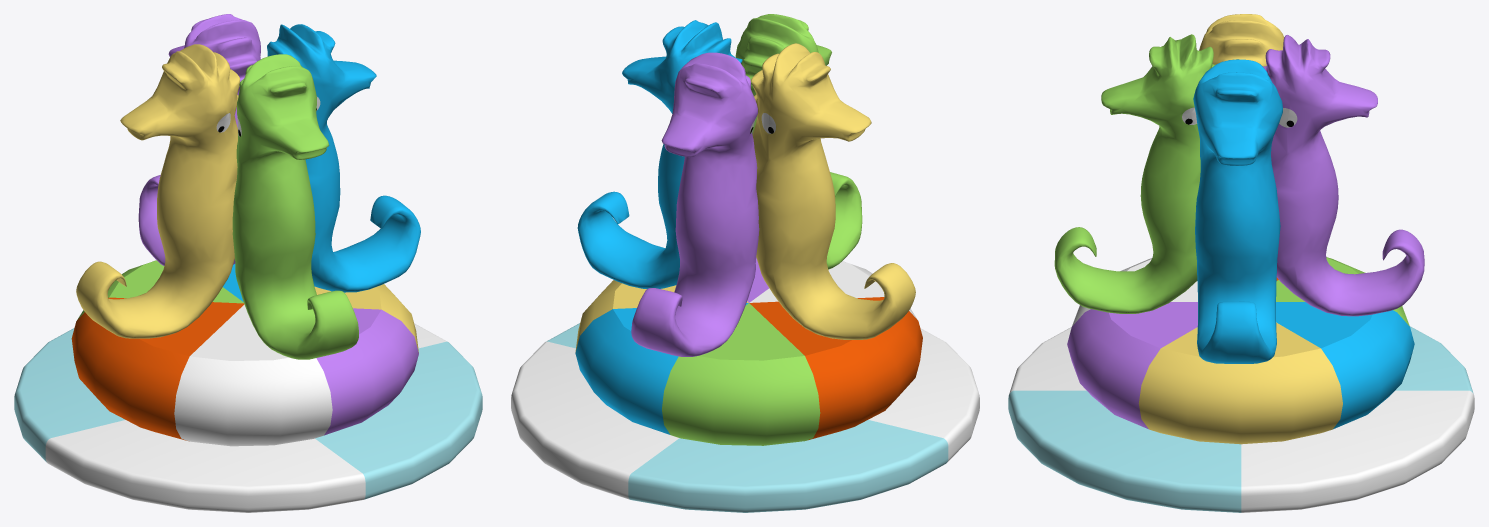
The picture shows the model from 3 angles, left to right: view 1: azimuth 30°, elevation 25°; view 2: azimuth 150°, elevation 25°; view 3: azimuth 270°, elevation 25°; orthographic projection.
Visible parts, largest first — view 1: 3DXY_geometry_004, 3DXY_geometry_005, 3DXY_geometry_003, 3DXY_geometry_006, 3DXY_geometry_002, 3DXY_geometry_001; view 2: 3DXY_geometry_004, 3DXY_geometry_005, 3DXY_geometry_001, 3DXY_geometry_003, 3DXY_geometry_002, 3DXY_geometry_006; view 3: 3DXY_geometry_004, 3DXY_geometry_005, 3DXY_geometry_002, 3DXY_geometry_001, 3DXY_geometry_006, 3DXY_geometry_003.
Boxes of the visible parts, <box> form: 3DXY_geometry_004: <box>14,323,482,512</box>; 3DXY_geometry_005: <box>71,260,418,446</box>; 3DXY_geometry_003: <box>76,44,239,338</box>; 3DXY_geometry_006: <box>232,54,358,359</box>; 3DXY_geometry_002: <box>267,24,420,292</box>; 3DXY_geometry_001: <box>138,14,260,265</box>; 3DXY_geometry_004: <box>511,323,979,512</box>; 3DXY_geometry_005: <box>575,258,922,445</box>; 3DXY_geometry_001: <box>631,52,759,356</box>; 3DXY_geometry_003: <box>751,43,915,339</box>; 3DXY_geometry_002: <box>577,20,742,288</box>; 3DXY_geometry_006: <box>735,14,862,269</box>; 3DXY_geometry_004: <box>1008,326,1474,512</box>; 3DXY_geometry_005: <box>1067,257,1414,444</box>; 3DXY_geometry_002: <box>1193,59,1282,363</box>; 3DXY_geometry_001: <box>1263,35,1424,316</box>; 3DXY_geometry_006: <box>1054,34,1215,313</box>; 3DXY_geometry_003: <box>1199,14,1284,66</box>.
Size of the model in its own units: 1.16 by 1.04 by 1.16.
